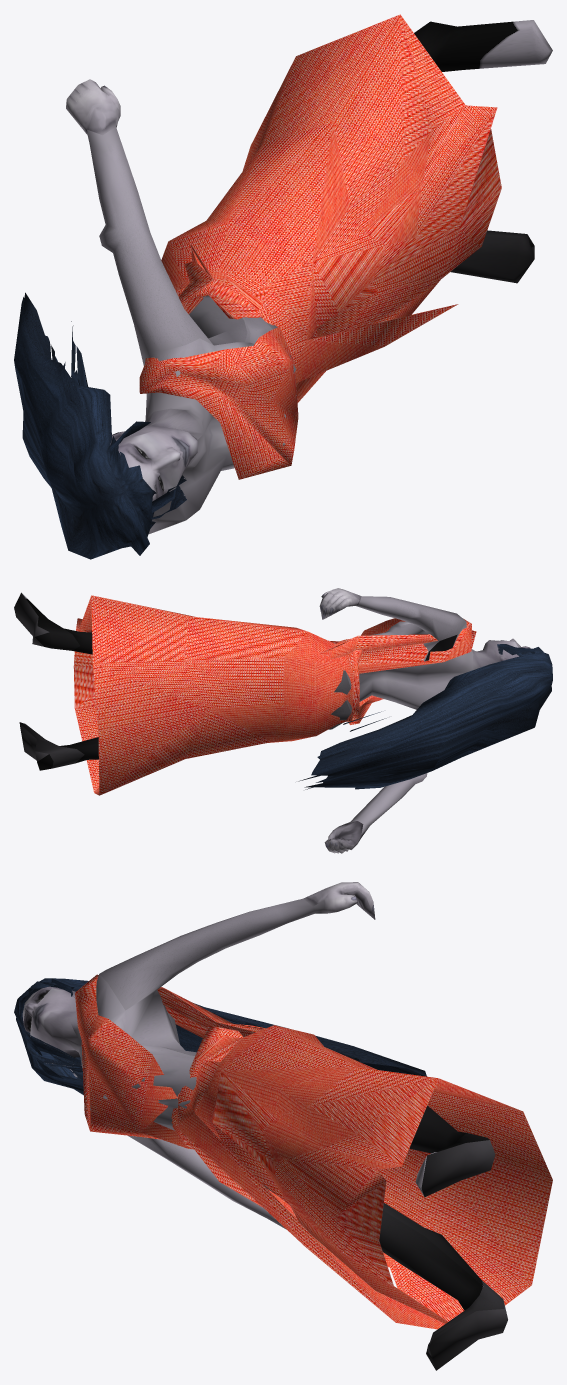
The model's file is sita_000156.obj.
The picture shows the model from 3 angles, top to bottom: view 1: azimuth 30°, elevation 25°; view 2: azimuth 150°, elevation 25°; view 3: azimuth 270°, elevation 25°; orthographic projection. The views are drawn at different scales.
Visible parts, largest first — view 1: saree_Cylinder, body.001_omino.012, hair.003_omino.013; view 2: saree_Cylinder, hair.003_omino.013, body.001_omino.012; view 3: saree_Cylinder, body.001_omino.012, hair.003_omino.013.
Boxes of the visible parts, x1=… form: saree_Cylinder: x1=139, y1=14, x2=501, y2=479; body.001_omino.012: x1=66, y1=20, x2=552, y2=533; hair.003_omino.013: x1=14, y1=292, x2=186, y2=559; saree_Cylinder: x1=73, y1=595, x2=476, y2=795; hair.003_omino.013: x1=298, y1=644, x2=552, y2=789; body.001_omino.012: x1=14, y1=588, x2=530, y2=853; saree_Cylinder: x1=75, y1=974, x2=552, y2=1329; body.001_omino.012: x1=22, y1=882, x2=507, y2=1370; hair.003_omino.013: x1=14, y1=978, x2=426, y2=1095.
Bounding box in the file's own units: 2.37 × 1.47 × 1.91.
